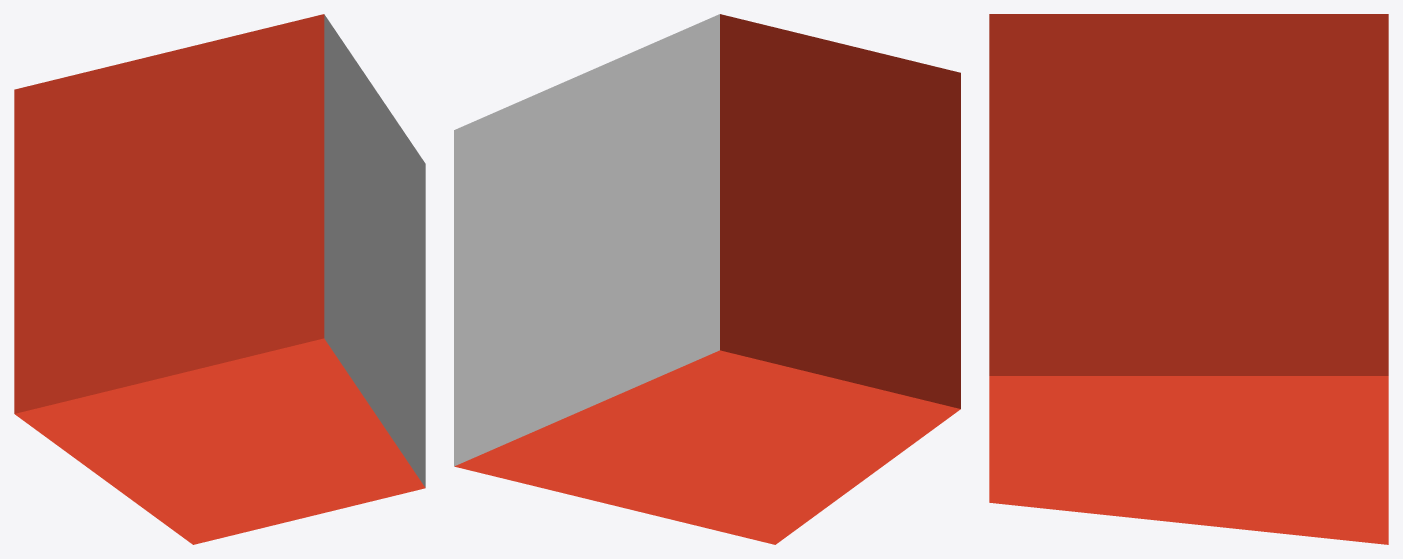
The model's file is r3c4_border_red.gltf.
3 views of the same model, side by side, from view 1: azimuth 30°, elevation 25°; view 2: azimuth 150°, elevation 25°; view 3: azimuth 270°, elevation 25° (orthographic). The views are drawn at different scales.
Parts seen in each view (by area): view 1: r3c4_border_red; view 2: r3c4_border_red; view 3: r3c4_border_red.
Boxes of the visible parts, x1,y1,x2,y2 form: r3c4_border_red: [14, 14, 425, 544]; r3c4_border_red: [454, 14, 960, 544]; r3c4_border_red: [989, 14, 1388, 544].
Size of the model in its own units: 2.1 by 2.1 by 2.1.
1 material, 1 textured.
